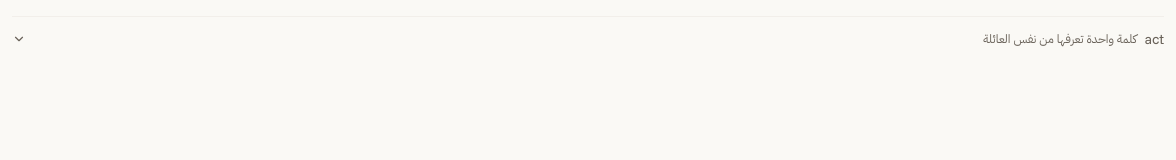
Test case: staying out of the way › opens and closes on click
Step 1. Click the button "act كلمة واحدة تعرفها من نفس العائلة" → (1060, 38), box [12,29,1164,49]
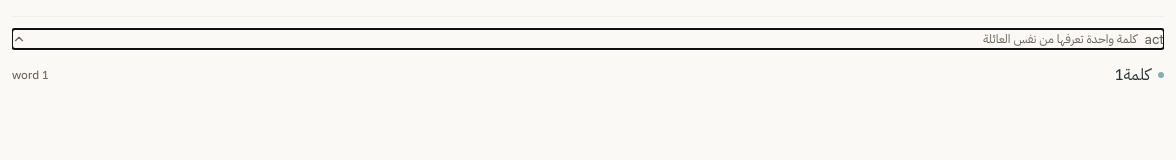
Result: the button "act كلمة واحدة تعرفها من نفس العائلة" is expanded
Result: the text "word 1" is shown at [12,67,49,82]
Step 2. Click the button "act كلمة واحدة تعرفها من نفس العائلة" → (1060, 38), box [12,29,1164,49]
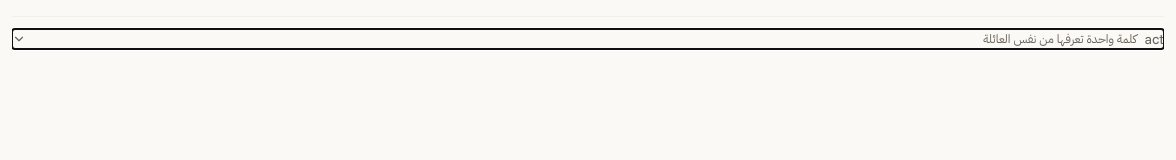
Result: the button "act كلمة واحدة تعرفها من نفس العائلة" is collapsed at [12,29,1164,49]
Result: the text "word 1" is gone
